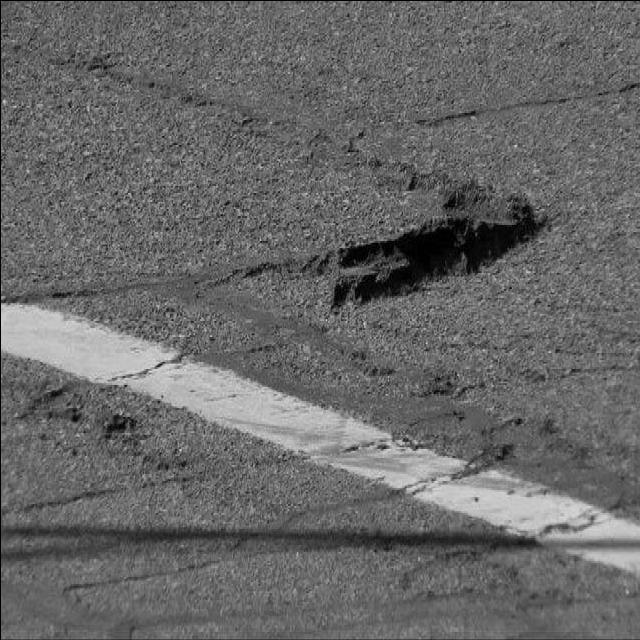jalan retak: (5, 14, 390, 188), (388, 82, 640, 176), (379, 387, 519, 515), (93, 316, 289, 398), (5, 459, 202, 532), (384, 527, 526, 625), (497, 324, 640, 416), (58, 544, 236, 612), (272, 322, 408, 410), (498, 482, 626, 562), (6, 275, 114, 318)
lubang: (278, 178, 534, 328), (15, 382, 142, 448)
